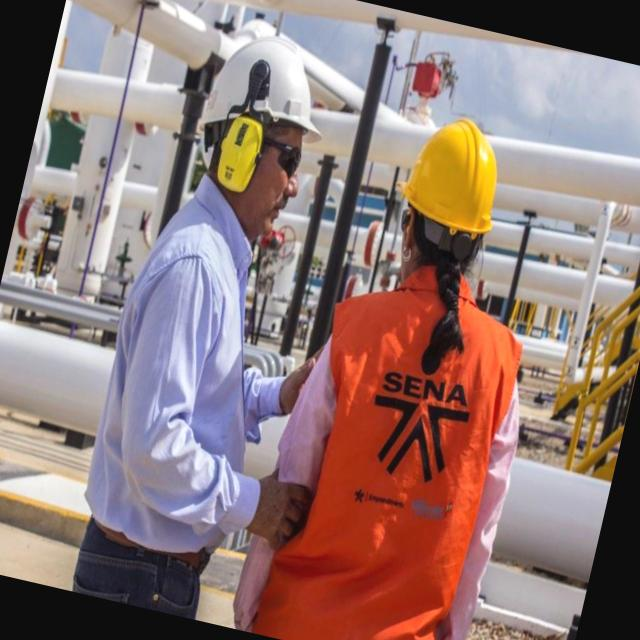helmet: (186, 23, 344, 160), (384, 104, 520, 247)
no-vest: (78, 196, 311, 570)
vest: (252, 267, 538, 640)
